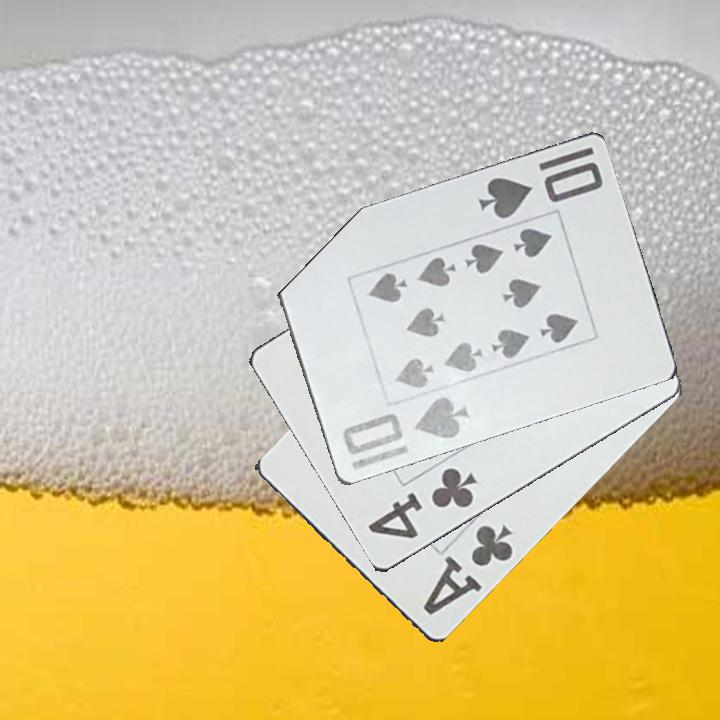4c: (364, 464, 480, 543)
Ac: (419, 521, 519, 619)
Ts: (474, 143, 606, 223), (338, 393, 472, 459)
